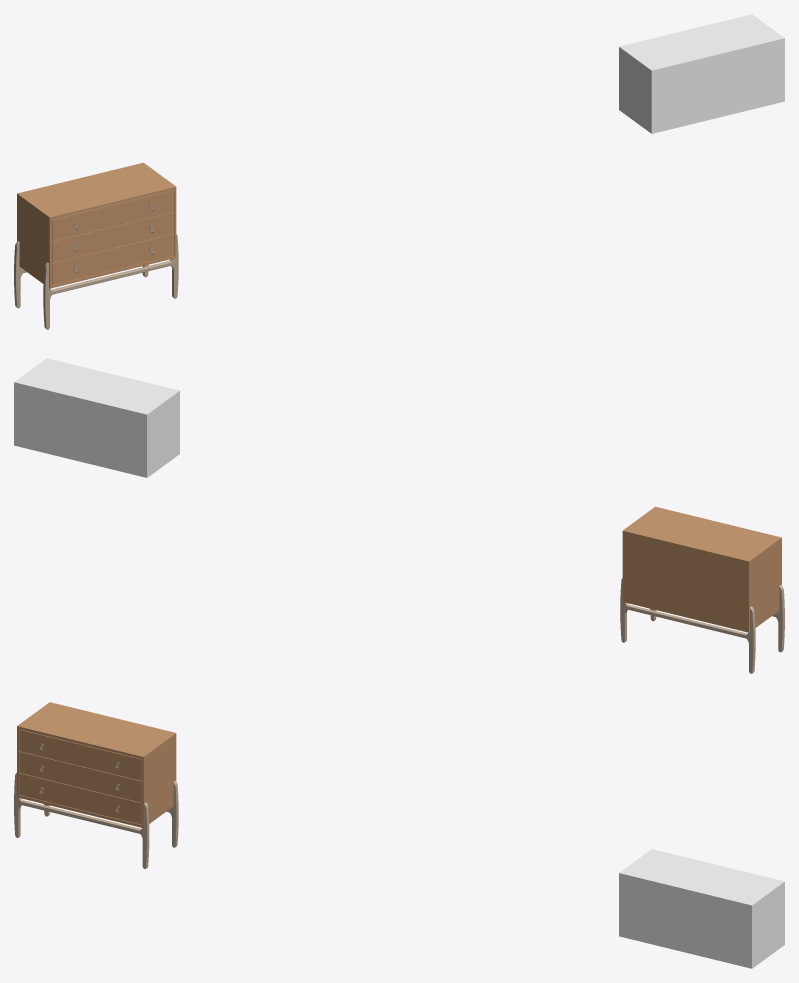
File: comoda-tannat.glb
The picture shows the model from 3 angles, top to bottom: view 1: azimuth 30°, elevation 25°; view 2: azimuth 150°, elevation 25°; view 3: azimuth 330°, elevation 25°; orthographic projection.
Bounding box in the file's own units: 6.11 × 0.89 × 0.4967.
